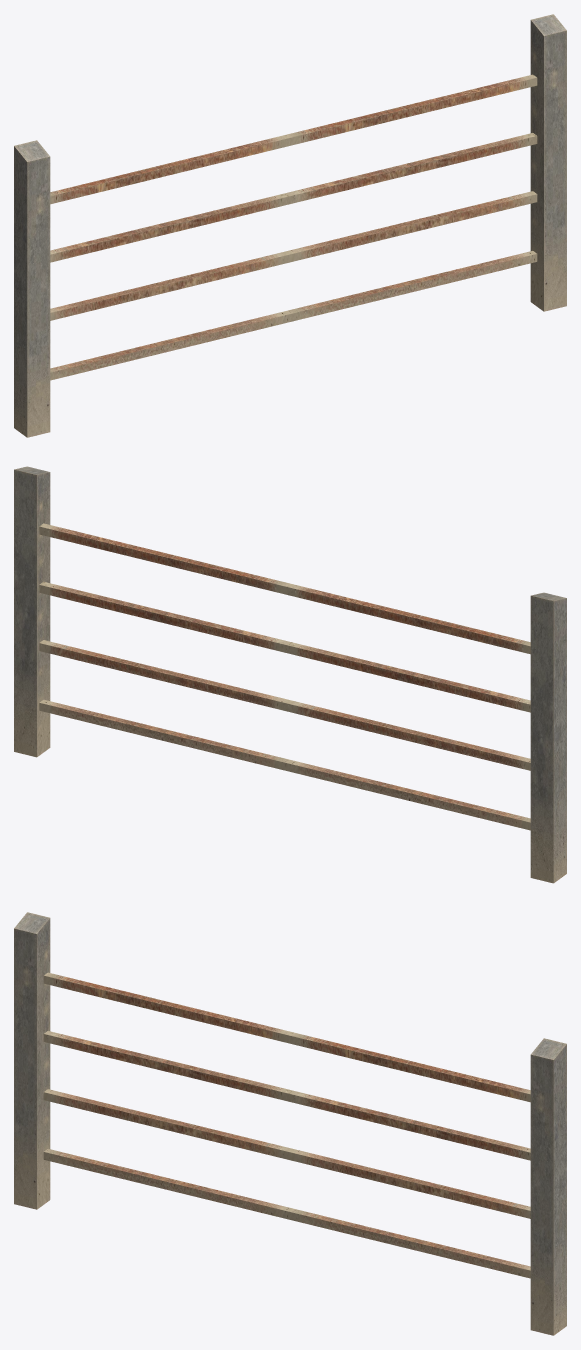
Rendered from DesertBarrier 4.glb.
3 renders of one model, top to bottom at view 1: azimuth 30°, elevation 25°; view 2: azimuth 150°, elevation 25°; view 3: azimuth 330°, elevation 25°, orthographic.
Parts seen in each view (by area): view 1: var3_var3_0.004; view 2: var3_var3_0.004; view 3: var3_var3_0.004.
Boxes of the visible parts, bbox=[...] form: var3_var3_0.004: bbox=[14, 14, 566, 437]; var3_var3_0.004: bbox=[14, 466, 566, 883]; var3_var3_0.004: bbox=[14, 912, 566, 1335].
Size of the model in its own units: 2.93 by 1.46 by 0.125.
1 material, 1 textured.
